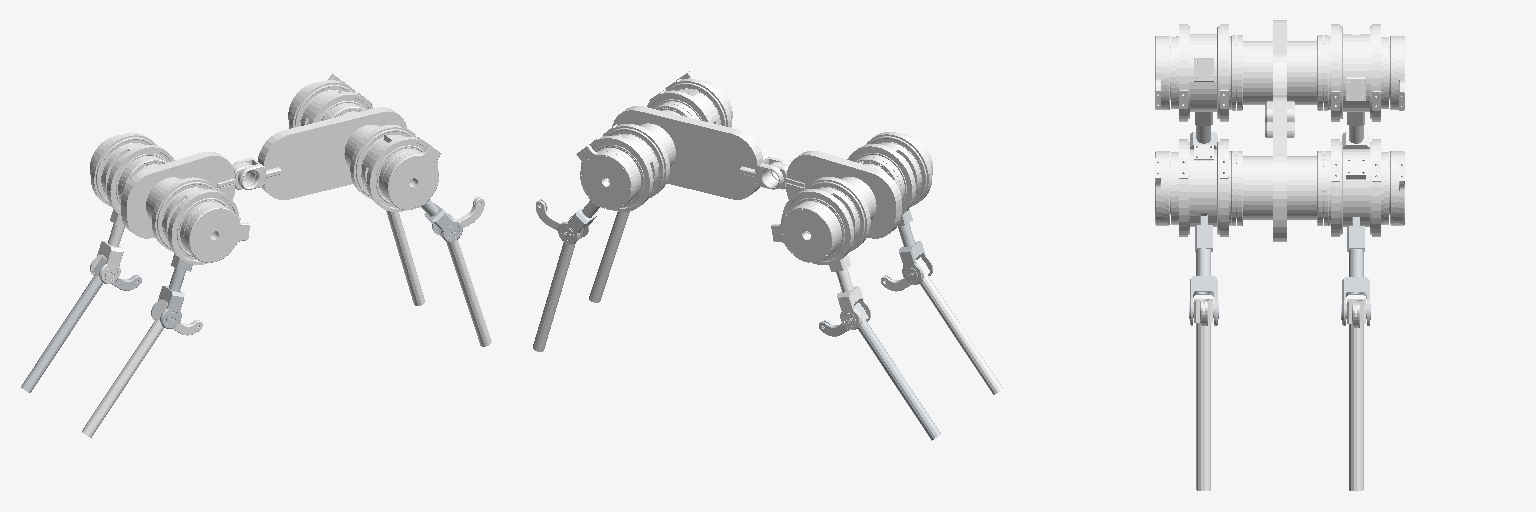
URDF robot description (FlexRobot_v1):
<?xml version="1.0" ?>
<robot
  name="FlexRobot_v1">
  <link
    name="FrontBody">
    <inertial>
      <origin
        xyz="-0.55658 0.10246 0.35766"
        rpy="0 0 0" />
      <mass
        value="4.5059" />
      <inertia
        ixx="0.051537"
        ixy="1.0077E-05"
        ixz="0.00011737"
        iyy="0.013909"
        iyz="-4.4566E-05"
        izz="0.054057" />
    </inertial>
    <visual>
      <origin
        xyz="0 0 0"
        rpy="0 0 0" />
      <geometry>
        <mesh
          filename="package://FlexRobot_v1/meshes/FrontBody.STL" />
      </geometry>
      <material
        name="">
        <color
          rgba="1 1 1 1" />
      </material>
    </visual>
    <collision>
      <origin
        xyz="0 0 0"
        rpy="0 0 0" />
      <geometry>
        <mesh
          filename="package://FlexRobot_v1/meshes/FrontBody.STL" />
      </geometry>
    </collision>
  </link>
  <link
    name="FrontLeftLeg_Hip">
    <inertial>
      <origin
        xyz="-0.024699 -0.071534 -0.069252"
        rpy="0 0 0" />
      <mass
        value="0.23878" />
      <inertia
        ixx="0.00098254"
        ixy="5.3675E-06"
        ixz="0.00031976"
        iyy="0.0011216"
        iyz="1.5051E-05"
        izz="0.00020005" />
    </inertial>
    <visual>
      <origin
        xyz="0 0 0"
        rpy="0 0 0" />
      <geometry>
        <mesh
          filename="package://FlexRobot_v1/meshes/FrontLeftLeg_Hip.STL" />
      </geometry>
      <material
        name="">
        <color
          rgba="0.89804 0.91765 0.92941 1" />
      </material>
    </visual>
    <collision>
      <origin
        xyz="0 0 0"
        rpy="0 0 0" />
      <geometry>
        <mesh
          filename="package://FlexRobot_v1/meshes/FrontLeftLeg_Hip.STL" />
      </geometry>
    </collision>
  </link>
  <joint
    name="FrontLeftLeg_Hip_Joint"
    type="continuous">
    <origin
      xyz="-0.56254 0.07246 0.35731"
      rpy="8.4741E-33 1.7347E-16 2.4652E-32" />
    <parent
      link="FrontBody" />
    <child
      link="FrontLeftLeg_Hip" />
    <axis
      xyz="0 -1 0" />
  </joint>
  <link
    name="FrontLeftLeg_Knee">
    <inertial>
      <origin
        xyz="-0.013364 0.0195 -0.039178"
        rpy="0 0 0" />
      <mass
        value="0.092493" />
      <inertia
        ixx="0.00023629"
        ixy="-9.7923E-13"
        ixz="0.00019864"
        iyy="0.00049392"
        iyz="-1.7031E-12"
        izz="0.00026635" />
    </inertial>
    <visual>
      <origin
        xyz="0 0 0"
        rpy="0 0 0" />
      <geometry>
        <mesh
          filename="package://FlexRobot_v1/meshes/FrontLeftLeg_Knee.STL" />
      </geometry>
      <material
        name="">
        <color
          rgba="1 1 1 1" />
      </material>
    </visual>
    <collision>
      <origin
        xyz="0 0 0"
        rpy="0 0 0" />
      <geometry>
        <mesh
          filename="package://FlexRobot_v1/meshes/FrontLeftLeg_Knee.STL" />
      </geometry>
    </collision>
  </link>
  <joint
    name="FrontLeftLeg_Knee_joint"
    type="continuous">
    <origin
      xyz="-0.056771 -0.09196 -0.15918"
      rpy="5.3926E-33 5.5511E-17 2.4652E-32" />
    <parent
      link="FrontLeftLeg_Hip" />
    <child
      link="FrontLeftLeg_Knee" />
    <axis
      xyz="0 -1 0" />
  </joint>
  <link
    name="FrontRightLeg_Hip">
    <inertial>
      <origin
        xyz="-0.024603 0.13153 -0.06934"
        rpy="0 0 0" />
      <mass
        value="0.23878" />
      <inertia
        ixx="0.00098151"
        ixy="-5.3134E-06"
        ixz="0.00031913"
        iyy="0.0011198"
        iyz="-1.5195E-05"
        izz="0.0001993" />
    </inertial>
    <visual>
      <origin
        xyz="0 0 0"
        rpy="0 0 0" />
      <geometry>
        <mesh
          filename="package://FlexRobot_v1/meshes/FrontRightLeg_Hip.STL" />
      </geometry>
      <material
        name="">
        <color
          rgba="1 1 1 1" />
      </material>
    </visual>
    <collision>
      <origin
        xyz="0 0 0"
        rpy="0 0 0" />
      <geometry>
        <mesh
          filename="package://FlexRobot_v1/meshes/FrontRightLeg_Hip.STL" />
      </geometry>
    </collision>
  </link>
  <joint
    name="FrontRightLeg_Hip_Joint"
    type="continuous">
    <origin
      xyz="-0.56254 0.07246 0.35731"
      rpy="8.4741E-33 1.7347E-16 2.4652E-32" />
    <parent
      link="FrontBody" />
    <child
      link="FrontRightLeg_Hip" />
    <axis
      xyz="0 -1 0" />
  </joint>
  <link
    name="FrontRightLeg_Knee">
    <inertial>
      <origin
        xyz="-0.01332 0.02 -0.039193"
        rpy="0 0 0" />
      <mass
        value="0.092493" />
      <inertia
        ixx="0.00023674"
        ixy="-9.7744E-13"
        ixz="0.00019867"
        iyy="0.00049392"
        iyz="-1.7044E-12"
        izz="0.00026589" />
    </inertial>
    <visual>
      <origin
        xyz="0 0 0"
        rpy="0 0 0" />
      <geometry>
        <mesh
          filename="package://FlexRobot_v1/meshes/FrontRightLeg_Knee.STL" />
      </geometry>
      <material
        name="">
        <color
          rgba="0.89804 0.91765 0.92941 1" />
      </material>
    </visual>
    <collision>
      <origin
        xyz="0 0 0"
        rpy="0 0 0" />
      <geometry>
        <mesh
          filename="package://FlexRobot_v1/meshes/FrontRightLeg_Knee.STL" />
      </geometry>
    </collision>
  </link>
  <joint
    name="FrontRightLeg_Knee_Joint"
    type="continuous">
    <origin
      xyz="-0.056589 0.11246 -0.15924"
      rpy="5.3926E-33 5.5511E-17 2.4652E-32" />
    <parent
      link="FrontRightLeg_Hip" />
    <child
      link="FrontRightLeg_Knee" />
    <axis
      xyz="0 -1 0" />
  </joint>
  <link
    name="BackBody">
    <inertial>
      <origin
        xyz="0.215 0.019021 0.00080001"
        rpy="0 0 0" />
      <mass
        value="4.8301" />
      <inertia
        ixx="0.052001"
        ixy="4.9713E-05"
        ixz="0.00011769"
        iyy="0.021949"
        iyz="-1.9983E-05"
        izz="0.061678" />
    </inertial>
    <visual>
      <origin
        xyz="0 0 0"
        rpy="0 0 0" />
      <geometry>
        <mesh
          filename="package://FlexRobot_v1/meshes/BackBody.STL" />
      </geometry>
      <material
        name="">
        <color
          rgba="1 1 1 1" />
      </material>
    </visual>
    <collision>
      <origin
        xyz="0 0 0"
        rpy="0 0 0" />
      <geometry>
        <mesh
          filename="package://FlexRobot_v1/meshes/BackBody.STL" />
      </geometry>
    </collision>
  </link>
  <joint
    name="BodyJoint"
    type="continuous">
    <origin
      xyz="-0.40775 0.083439 0.36531"
      rpy="8.4741E-33 1.7347E-16 2.4652E-32" />
    <parent
      link="FrontBody" />
    <child
      link="BackBody" />
    <axis
      xyz="0 -1 0" />
  </joint>
  <link
    name="RearBodyLeftLeg_Hip">
    <inertial>
      <origin
        xyz="0.04503 -0.071534 -0.058122"
        rpy="0 0 0" />
      <mass
        value="0.23878" />
      <inertia
        ixx="0.00071753"
        ixy="-9.7867E-06"
        ixz="-0.00048927"
        iyy="0.0011216"
        iyz="1.2632E-05"
        izz="0.00046505" />
    </inertial>
    <visual>
      <origin
        xyz="0 0 0"
        rpy="0 0 0" />
      <geometry>
        <mesh
          filename="package://FlexRobot_v1/meshes/RearBodyLeftLeg_Hip.STL" />
      </geometry>
      <material
        name="">
        <color
          rgba="0.89804 0.91765 0.92941 1" />
      </material>
    </visual>
    <collision>
      <origin
        xyz="0 0 0"
        rpy="0 0 0" />
      <geometry>
        <mesh
          filename="package://FlexRobot_v1/meshes/RearBodyLeftLeg_Hip.STL" />
      </geometry>
    </collision>
  </link>
  <joint
    name="RearBodyLeftLeg_Hip_Joint"
    type="continuous">
    <origin
      xyz="0.23 -0.010979 0"
      rpy="5.3926E-33 0 2.4652E-32" />
    <parent
      link="BackBody" />
    <child
      link="RearBodyLeftLeg_Hip" />
    <axis
      xyz="0 -1 0" />
  </joint>
  <link
    name="RearBodyLeftLeg_Knee">
    <inertial>
      <origin
        xyz="0.025803 0.0195 -0.032369"
        rpy="0 0 0" />
      <mass
        value="0.092493" />
      <inertia
        ixx="0.00043795"
        ixy="1.0876E-12"
        ixz="-6.9646E-05"
        iyy="0.00049392"
        iyz="-1.9594E-12"
        izz="6.4686E-05" />
    </inertial>
    <visual>
      <origin
        xyz="0 0 0"
        rpy="0 0 0" />
      <geometry>
        <mesh
          filename="package://FlexRobot_v1/meshes/RearBodyLeftLeg_Knee.STL" />
      </geometry>
      <material
        name="">
        <color
          rgba="1 1 1 1" />
      </material>
    </visual>
    <collision>
      <origin
        xyz="0 0 0"
        rpy="0 0 0" />
      <geometry>
        <mesh
          filename="package://FlexRobot_v1/meshes/RearBodyLeftLeg_Knee.STL" />
      </geometry>
    </collision>
  </link>
  <joint
    name="RearBodyLeftLeg_Knee"
    type="continuous">
    <origin
      xyz="0.1035 -0.09196 -0.1336"
      rpy="5.3926E-33 0 2.4652E-32" />
    <parent
      link="RearBodyLeftLeg_Hip" />
    <child
      link="RearBodyLeftLeg_Knee" />
    <axis
      xyz="0 -1 0" />
  </joint>
  <link
    name="RearBodyRightLeg_Hip">
    <inertial>
      <origin
        xyz="0.043413 0.13153 -0.059402"
        rpy="0 0 0" />
      <mass
        value="0.23878" />
      <inertia
        ixx="0.00074488"
        ixy="9.558E-06"
        ixz="-0.00048056"
        iyy="0.0011198"
        iyz="-1.2953E-05"
        izz="0.00043593" />
    </inertial>
    <visual>
      <origin
        xyz="0 0 0"
        rpy="0 0 0" />
      <geometry>
        <mesh
          filename="package://FlexRobot_v1/meshes/RearBodyRightLeg_Hip.STL" />
      </geometry>
      <material
        name="">
        <color
          rgba="0.89804 0.91765 0.92941 1" />
      </material>
    </visual>
    <collision>
      <origin
        xyz="0 0 0"
        rpy="0 0 0" />
      <geometry>
        <mesh
          filename="package://FlexRobot_v1/meshes/RearBodyRightLeg_Hip.STL" />
      </geometry>
    </collision>
  </link>
  <joint
    name="RearBodyRightLeg_Hip"
    type="continuous">
    <origin
      xyz="0.23 -0.010979 0"
      rpy="5.3926E-33 0 2.4652E-32" />
    <parent
      link="BackBody" />
    <child
      link="RearBodyRightLeg_Hip" />
    <axis
      xyz="0 -1 0" />
  </joint>
  <link
    name="RearBodyRightLeg_Knee">
    <inertial>
      <origin
        xyz="0.02487 0.0195 -0.033091"
        rpy="0 0 0" />
      <mass
        value="0.092493" />
      <inertia
        ixx="0.00044162"
        ixy="1.0346E-12"
        ixz="-5.8899E-05"
        iyy="0.00049392"
        iyz="-2.005E-12"
        izz="6.1022E-05" />
    </inertial>
    <visual>
      <origin
        xyz="0 0 0"
        rpy="0 0 0" />
      <geometry>
        <mesh
          filename="package://FlexRobot_v1/meshes/RearBodyRightLeg_Knee.STL" />
      </geometry>
      <material
        name="">
        <color
          rgba="1 1 1 1" />
      </material>
    </visual>
    <collision>
      <origin
        xyz="0 0 0"
        rpy="0 0 0" />
      <geometry>
        <mesh
          filename="package://FlexRobot_v1/meshes/RearBodyRightLeg_Knee.STL" />
      </geometry>
    </collision>
  </link>
  <joint
    name="RearBodyRightLeg_Knee"
    type="continuous">
    <origin
      xyz="0.099654 0.11296 -0.13649"
      rpy="5.3926E-33 0 2.4652E-32" />
    <parent
      link="RearBodyRightLeg_Hip" />
    <child
      link="RearBodyRightLeg_Knee" />
    <axis
      xyz="0 -1 0" />
  </joint>
</robot>

--- Facts derived from the render (not from the file) ---
Views: 3 orthographic renders of the robot side by side, from view 1: azimuth 30°, elevation 25°; view 2: azimuth 150°, elevation 25°; view 3: azimuth 270°, elevation 25°.
Robot: FlexRobot_v1 — 10 links, 9 joints (9 continuous); root link FrontBody; default pose: every joint at zero.
Links seen in each view (by area): view 1: BackBody, FrontBody, FrontRightLeg_Knee, FrontLeftLeg_Knee, RearBodyLeftLeg_Knee, FrontLeftLeg_Hip, FrontRightLeg_Hip, RearBodyRightLeg_Knee, RearBodyLeftLeg_Hip; view 2: BackBody, FrontBody, FrontRightLeg_Knee, FrontLeftLeg_Knee, RearBodyRightLeg_Knee, FrontRightLeg_Hip, FrontLeftLeg_Hip, RearBodyLeftLeg_Knee, RearBodyRightLeg_Hip; view 3: BackBody, FrontBody, RearBodyRightLeg_Knee, RearBodyLeftLeg_Knee, RearBodyLeftLeg_Hip, RearBodyRightLeg_Hip, FrontRightLeg_Hip, FrontLeftLeg_Hip.
Boxes of the visible links, x1=… form: BackBody: x1=232, y1=74, x2=441, y2=211; FrontBody: x1=90, y1=133, x2=255, y2=264; FrontRightLeg_Knee: x1=21, y1=257, x2=141, y2=392; FrontLeftLeg_Knee: x1=82, y1=302, x2=202, y2=437; RearBodyLeftLeg_Knee: x1=438, y1=197, x2=491, y2=346; FrontLeftLeg_Hip: x1=151, y1=253, x2=192, y2=328; FrontRightLeg_Hip: x1=90, y1=209, x2=124, y2=283; RearBodyRightLeg_Knee: x1=386, y1=211, x2=424, y2=305; RearBodyLeftLeg_Hip: x1=421, y1=200, x2=462, y2=241; BackBody: x1=576, y1=71, x2=788, y2=211; FrontBody: x1=766, y1=132, x2=932, y2=264; FrontRightLeg_Knee: x1=819, y1=303, x2=940, y2=440; FrontLeftLeg_Knee: x1=881, y1=257, x2=1002, y2=394; RearBodyRightLeg_Knee: x1=533, y1=199, x2=583, y2=351; FrontRightLeg_Hip: x1=829, y1=254, x2=870, y2=329; FrontLeftLeg_Hip: x1=898, y1=209, x2=932, y2=284; RearBodyLeftLeg_Knee: x1=589, y1=211, x2=629, y2=302; RearBodyRightLeg_Hip: x1=558, y1=200, x2=599, y2=244; BackBody: x1=1155, y1=97, x2=1404, y2=241; FrontBody: x1=1155, y1=20, x2=1404, y2=121; RearBodyRightLeg_Knee: x1=1347, y1=299, x2=1365, y2=491; RearBodyLeftLeg_Knee: x1=1194, y1=299, x2=1212, y2=490; RearBodyLeftLeg_Hip: x1=1189, y1=213, x2=1218, y2=325; RearBodyRightLeg_Hip: x1=1341, y1=217, x2=1370, y2=325; FrontRightLeg_Hip: x1=1342, y1=112, x2=1369, y2=148; FrontLeftLeg_Hip: x1=1190, y1=77, x2=1217, y2=148.
Bounding box of the posed robot: 0.7916 × 0.3356 × 0.4389 m (x, y, z).
Meshes: 10 distinct files referenced, 10 mesh visuals loaded (10 binary STL).